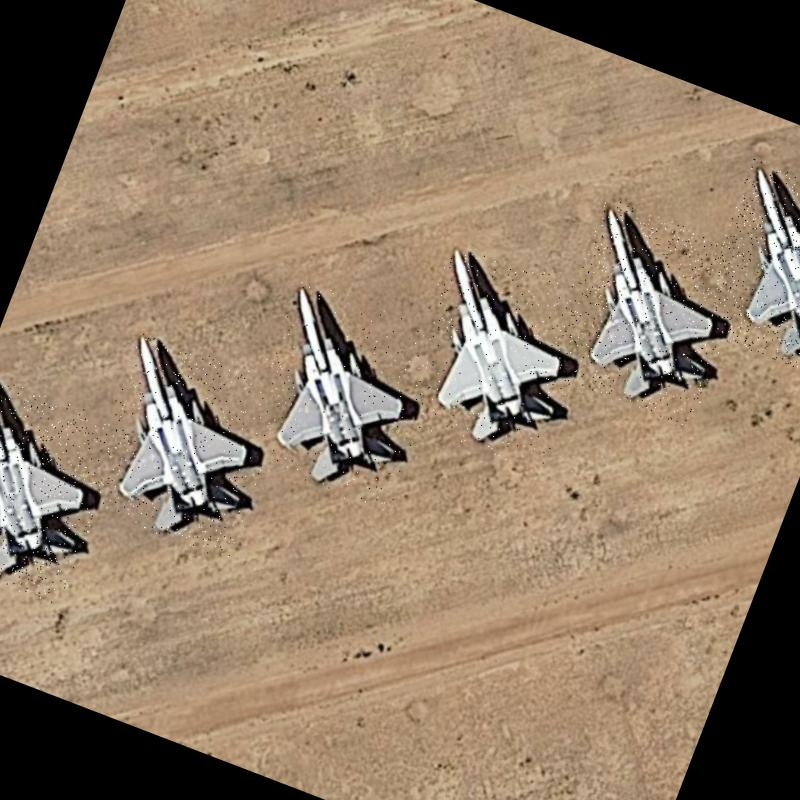A13: (229, 276, 456, 515), (387, 238, 608, 473), (75, 330, 294, 561), (540, 196, 757, 428), (0, 371, 128, 606), (688, 158, 800, 381)
